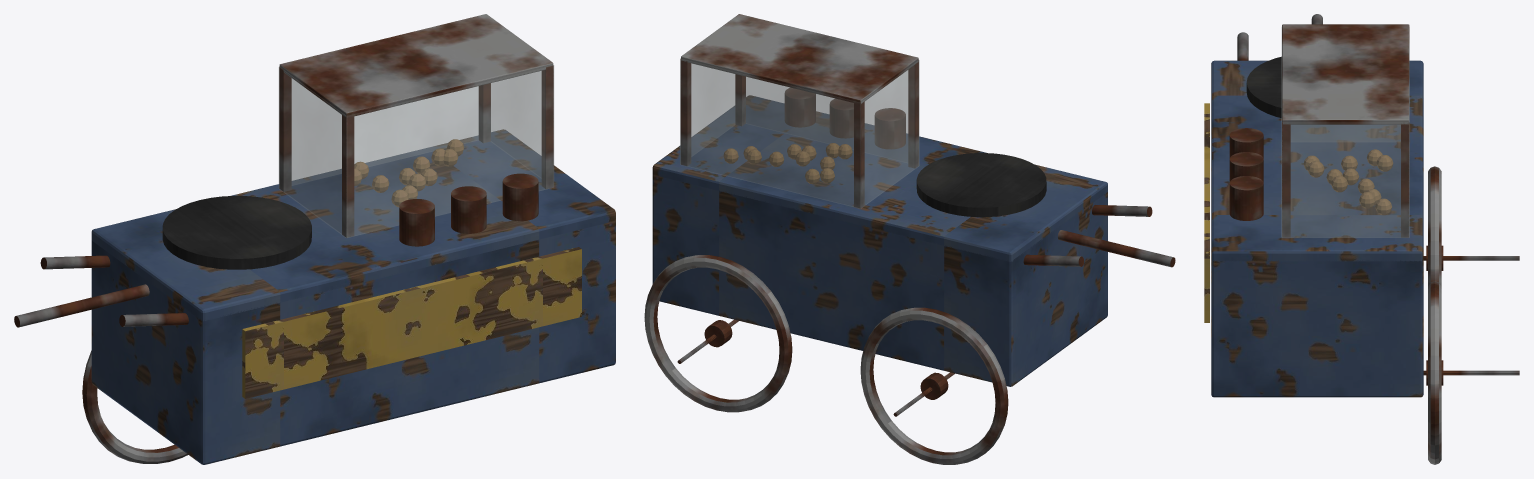
Rendered from W22_StreetFoodCart.glb.
The picture shows the model from 3 angles, left to right: view 1: azimuth 30°, elevation 25°; view 2: azimuth 150°, elevation 25°; view 3: azimuth 270°, elevation 25°; orthographic projection. The views are drawn at different scales.
Parts seen in each view (by area): view 1: W22_StreetFoodCart; view 2: W22_StreetFoodCart; view 3: W22_StreetFoodCart.
Boxes of the visible parts, x1=… form: W22_StreetFoodCart: x1=14, y1=14, x2=615, y2=464; W22_StreetFoodCart: x1=644, y1=14, x2=1175, y2=464; W22_StreetFoodCart: x1=1204, y1=14, x2=1519, y2=464.
Size of the model in its own units: 2 by 1.34 by 1.06.
6 materials, 6 textured.
